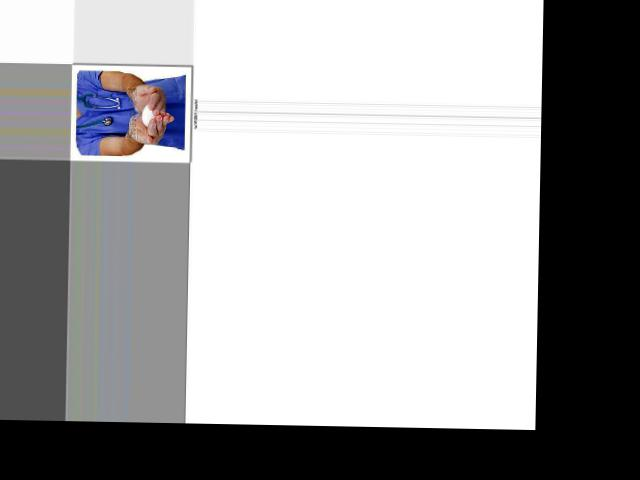egg: (141, 103, 156, 125)
